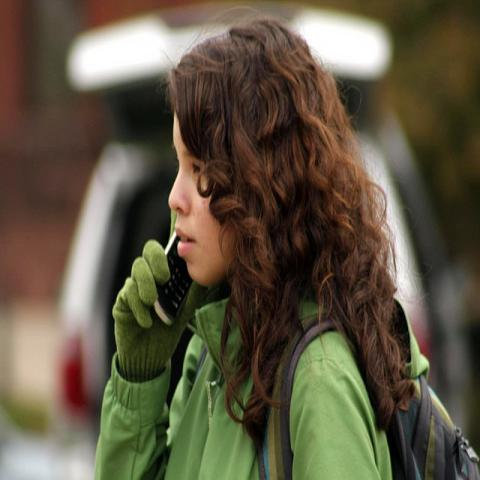car: (42, 3, 472, 435)
